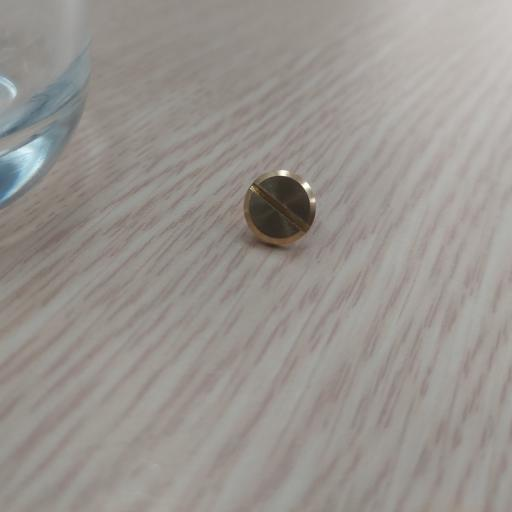Slotted: (244, 169, 318, 246)
